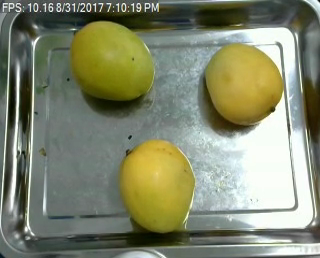Mango: (68, 21, 164, 112), (120, 134, 204, 235), (197, 42, 290, 132)
